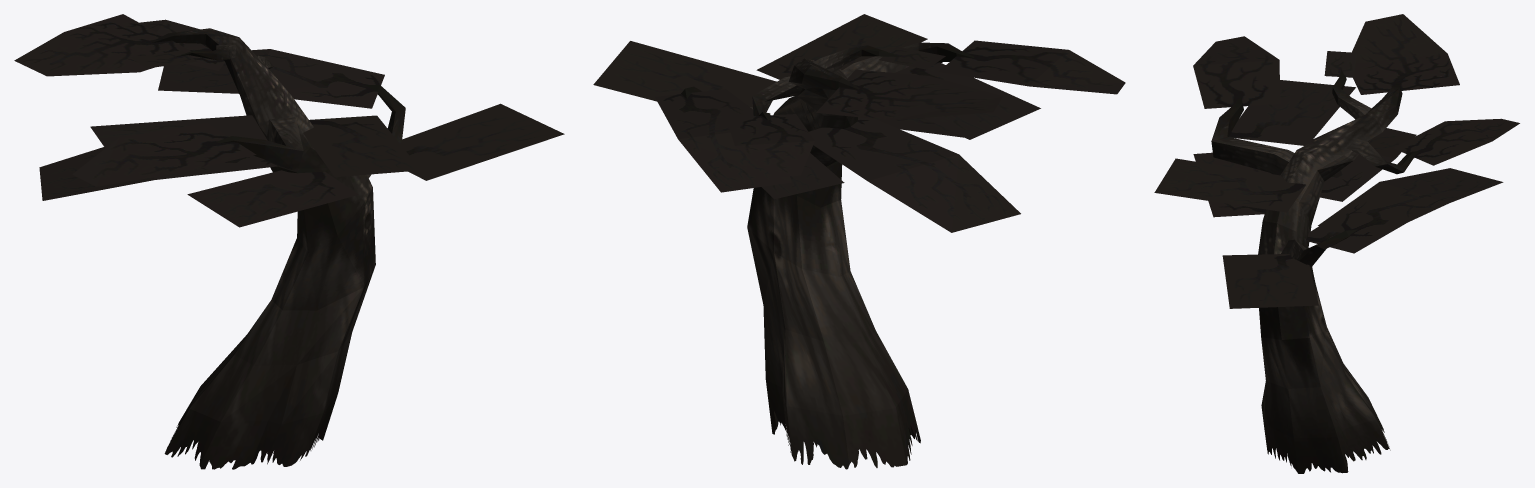
The model's file is cherrytree_burnt_02.fbx.
3 views of the same model, side by side, from view 1: azimuth 30°, elevation 25°; view 2: azimuth 150°, elevation 25°; view 3: azimuth 270°, elevation 25° (orthographic). The views are drawn at different scales.
Visible parts, largest first — view 1: obj1.101; view 2: obj1.101; view 3: obj1.101.
Part boxes in pixels (x1,y1,x2,y2): obj1.101: (14,14,564,469); obj1.101: (593,14,1125,469); obj1.101: (1154,14,1519,473).
Size of the model in its own units: 9.01 by 7.11 by 6.67.
